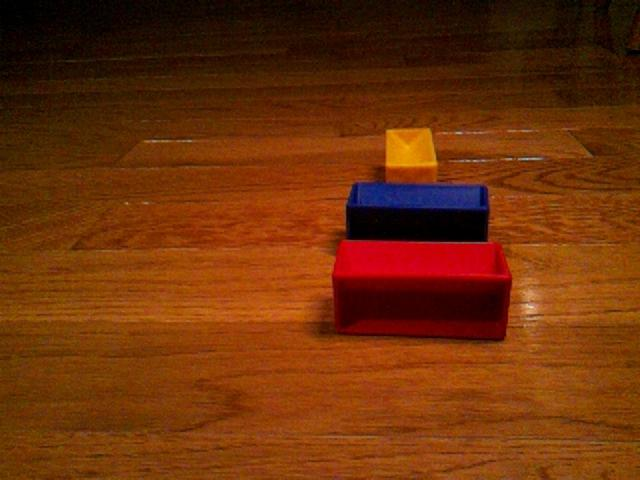blue: (345, 180, 491, 242)
red: (331, 238, 513, 341)
yellow: (384, 127, 439, 183)
